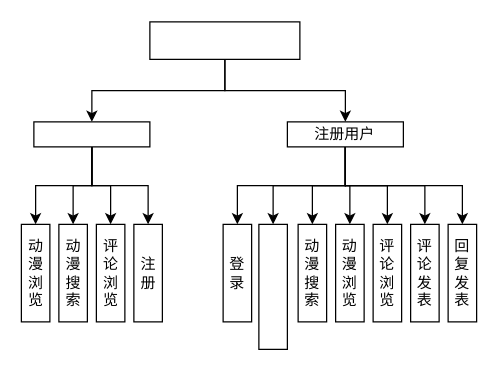
This 500x371 diagram has some shape labels left out. The shapes that lost their labels are listed below. From the top down, each one's centre as x and y in pixels, then its label:
[224,40]: 动漫论坛网站前台
[91,134]: 普通用户
[272,286]: 修改个人信息
